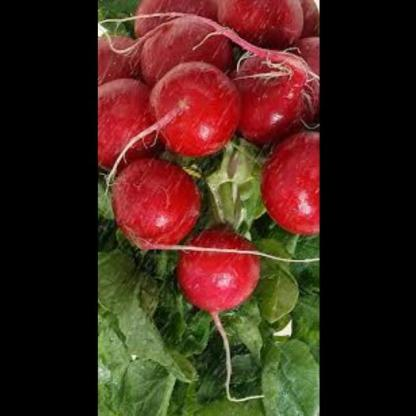rediska: (145, 61, 240, 155), (109, 154, 196, 255), (234, 43, 316, 144), (176, 230, 261, 316), (96, 72, 165, 176), (137, 16, 228, 93), (255, 130, 318, 234), (215, 0, 310, 52), (131, 0, 223, 40), (96, 29, 148, 97)
